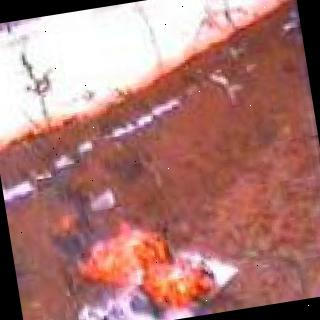fire: (51, 190, 227, 320)
